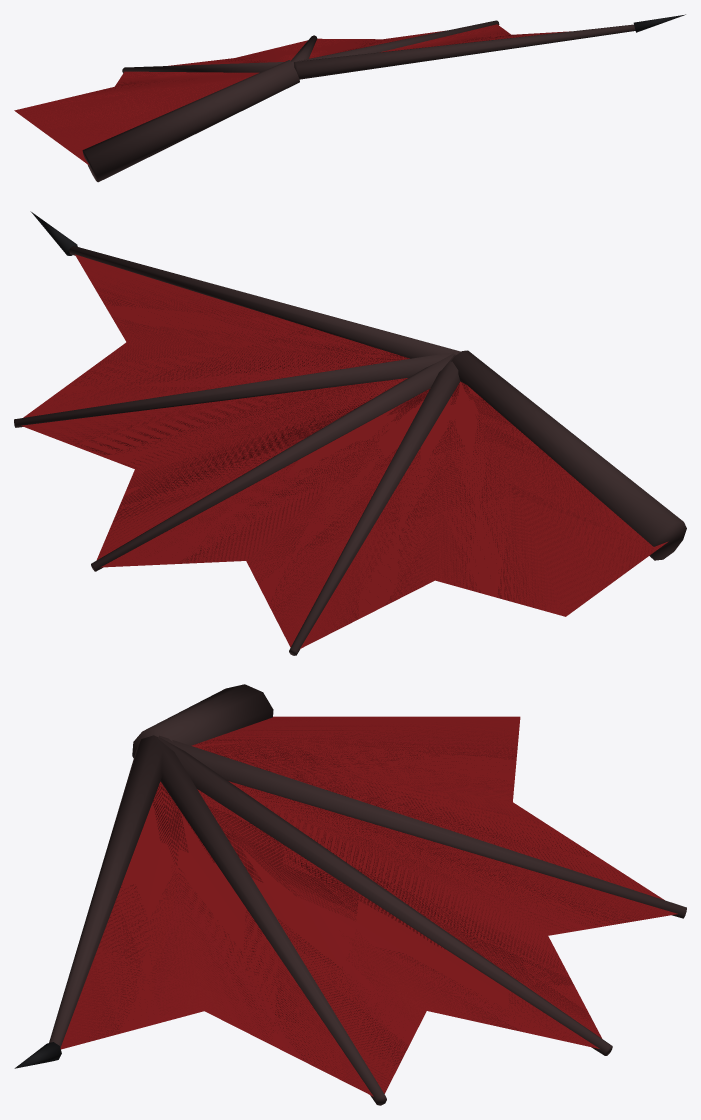
The model's file is thomas_wing_left.obj.
The picture shows the model from 3 angles, top to bottom: view 1: azimuth 30°, elevation 25°; view 2: azimuth 150°, elevation 25°; view 3: azimuth 270°, elevation 25°; orthographic projection. The views are drawn at different scales.
Bounding box in the file's own units: 4.5 × 0.9081 × 2.66.
